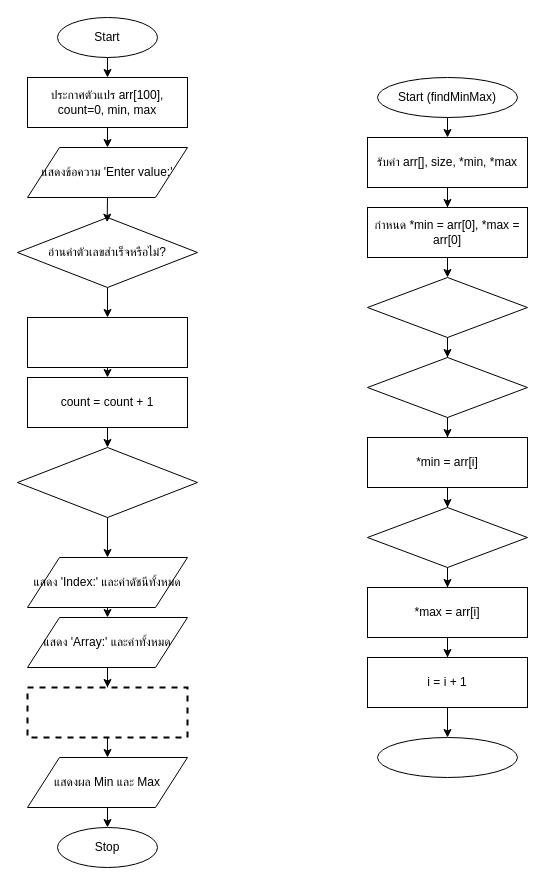
This 545x885 diagram has some shape labels left out. Here are the shapes that lost their labels. From the top down, the box of each, then its label:
(366, 276, 528, 338): i < size ?
(26, 316, 188, 368): เก็บค่าลง arr[count]
(366, 356, 528, 418): arr[i] < *min ?
(16, 446, 198, 518): getchar() == '\n' ?
(366, 506, 528, 568): arr[i] > *max ?
(26, 686, 188, 738): เรียกใช้ฟังก์ชัน findMinMax(arr, count, &min, &max)
(376, 736, 518, 778): Stop (findMinMax)
